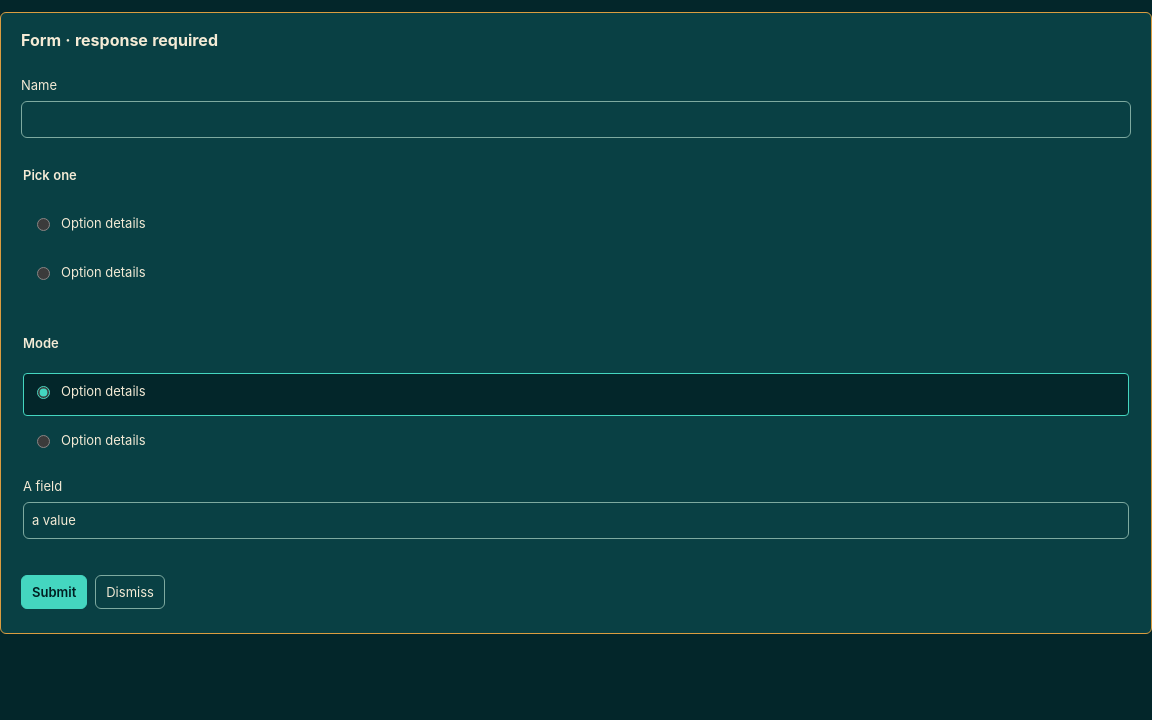
Test: mounted actor forms › sends Submit with secure browser randomness when randomUUID is absent
Type "HTTP draft" into the field labelled "Name" at x=576, y=119, box [21,101,1131,138]
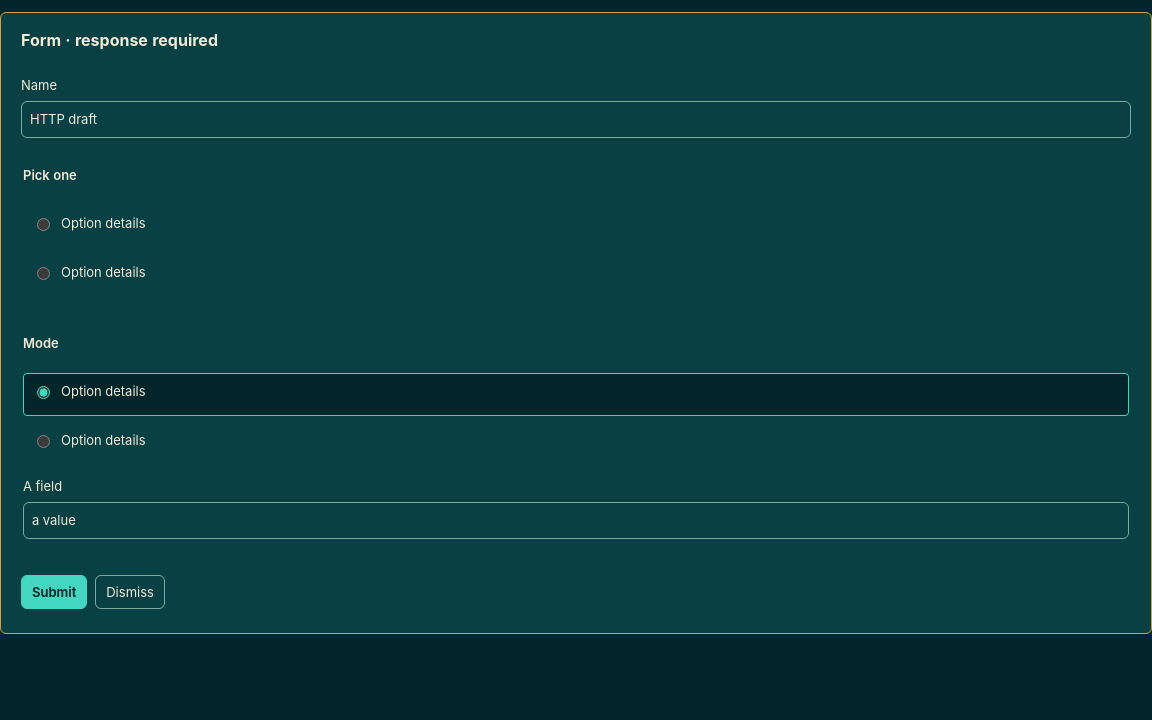
Click the button "Submit" at x=54, y=592, box [21,575,87,609]
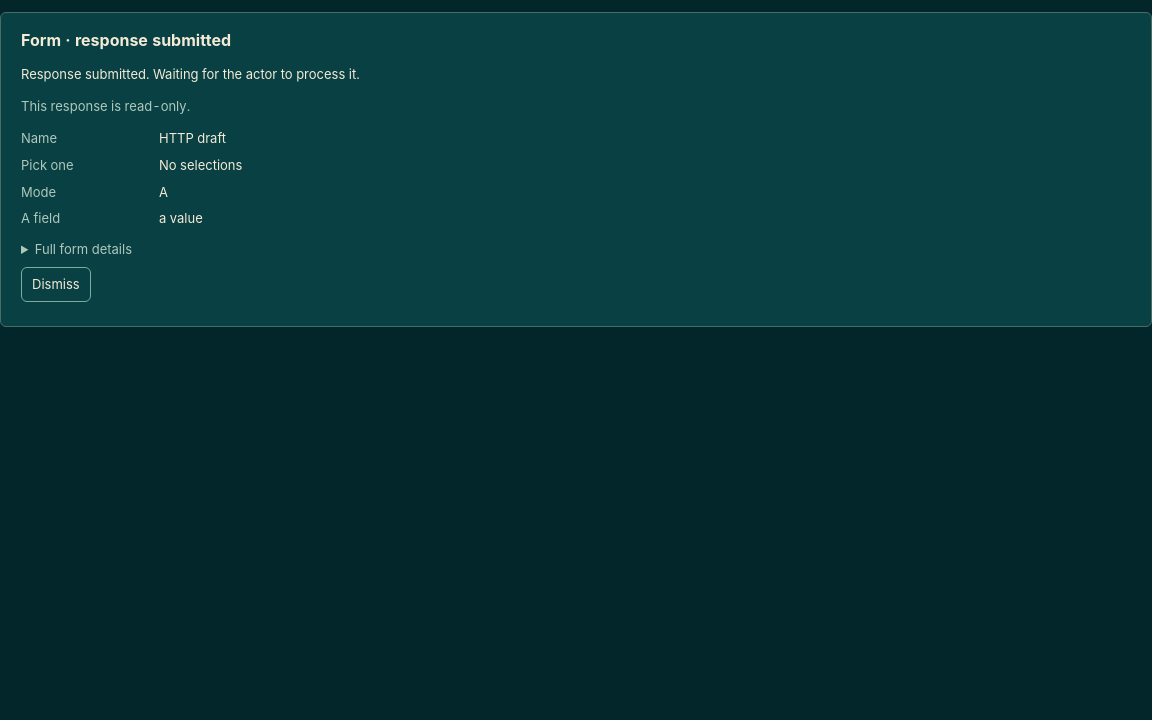
Expected: the message shows "Response submitted", [21,66,360,82]
